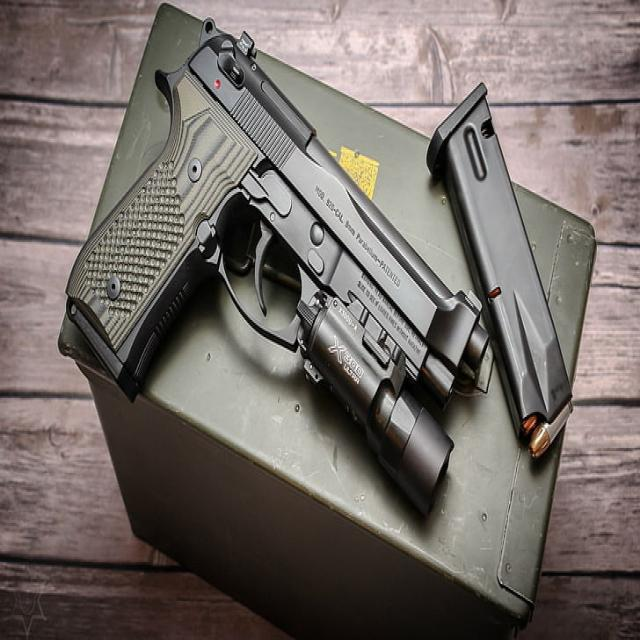Gun: (66, 12, 495, 508)
